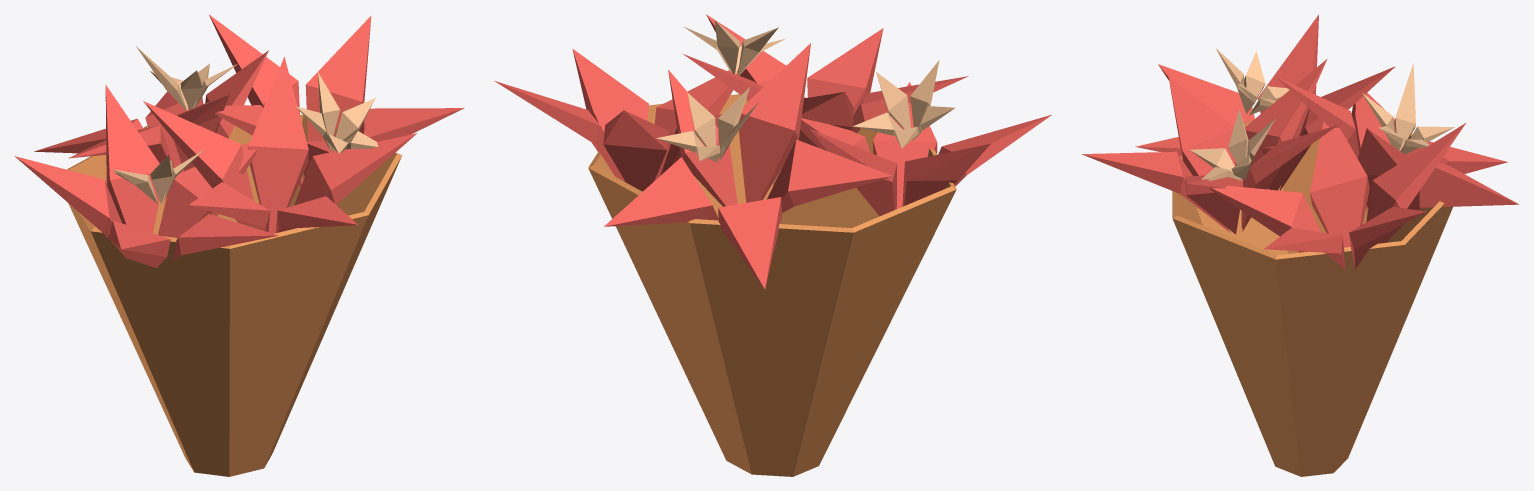
Rendered from Bouquet.gltf.
3 renders of one model, left to right at view 1: azimuth 30°, elevation 25°; view 2: azimuth 150°, elevation 25°; view 3: azimuth 270°, elevation 25°, orthographic. The views are drawn at different scales.
Parts seen in each view (by area): view 1: flower_1.008; view 2: flower_1.008; view 3: flower_1.008.
Boxes of the visible parts, x1=… form: flower_1.008: x1=14, y1=14, x2=464, y2=476; flower_1.008: x1=494, y1=14, x2=1051, y2=476; flower_1.008: x1=1081, y1=14, x2=1518, y2=476.
Size of the model in its own units: 0.8143 by 0.7097 by 0.7488.
1 material, 1 textured.
